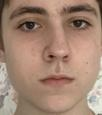without_mask: (1, 1, 102, 115)
